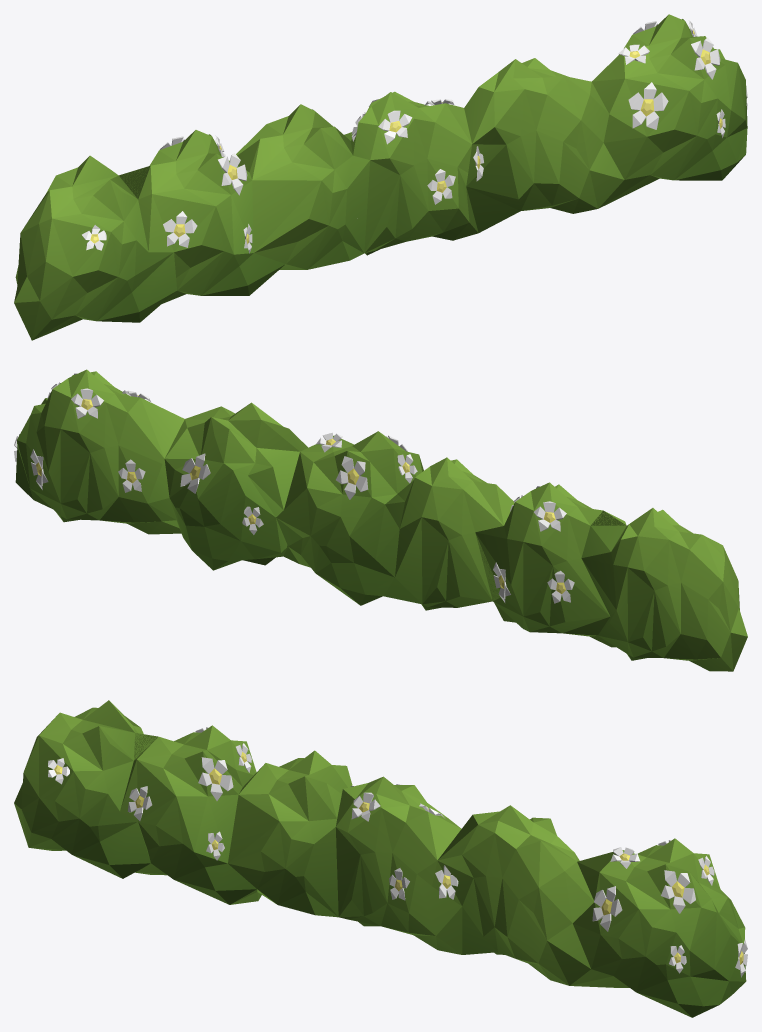
File: wall.fbx
3 views of the same model, one above another, from view 1: azimuth 30°, elevation 25°; view 2: azimuth 150°, elevation 25°; view 3: azimuth 330°, elevation 25° (orthographic). The views are drawn at different scales.
Visible parts, largest first — view 1: pasted__group_pasted__空白_pasted__Bush_big_flowers_e_400_1; view 2: pasted__group_pasted__空白_pasted__Bush_big_flowers_e_400_1; view 3: pasted__group_pasted__空白_pasted__Bush_big_flowers_e_400_1.
Part boxes in pixels (x1,y1,x2,y2): pasted__group_pasted__空白_pasted__Bush_big_flowers_e_400_1: (14,14,747,340); pasted__group_pasted__空白_pasted__Bush_big_flowers_e_400_1: (14,369,747,671); pasted__group_pasted__空白_pasted__Bush_big_flowers_e_400_1: (14,700,747,1017).
Size of the model in its own units: 224 by 46.99 by 27.48.
6 materials, 6 textured.
